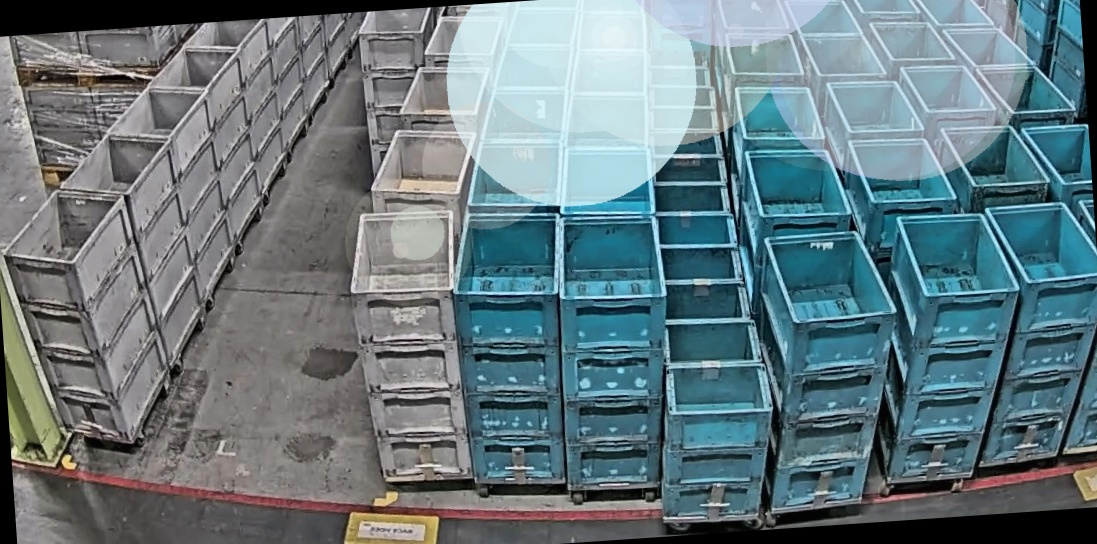4G: (0, 182, 174, 453), (345, 208, 472, 485)
B4: (859, 204, 1030, 484), (747, 228, 910, 509), (551, 211, 682, 490), (449, 208, 576, 487), (964, 201, 1097, 464)
B8: (649, 312, 782, 521)
